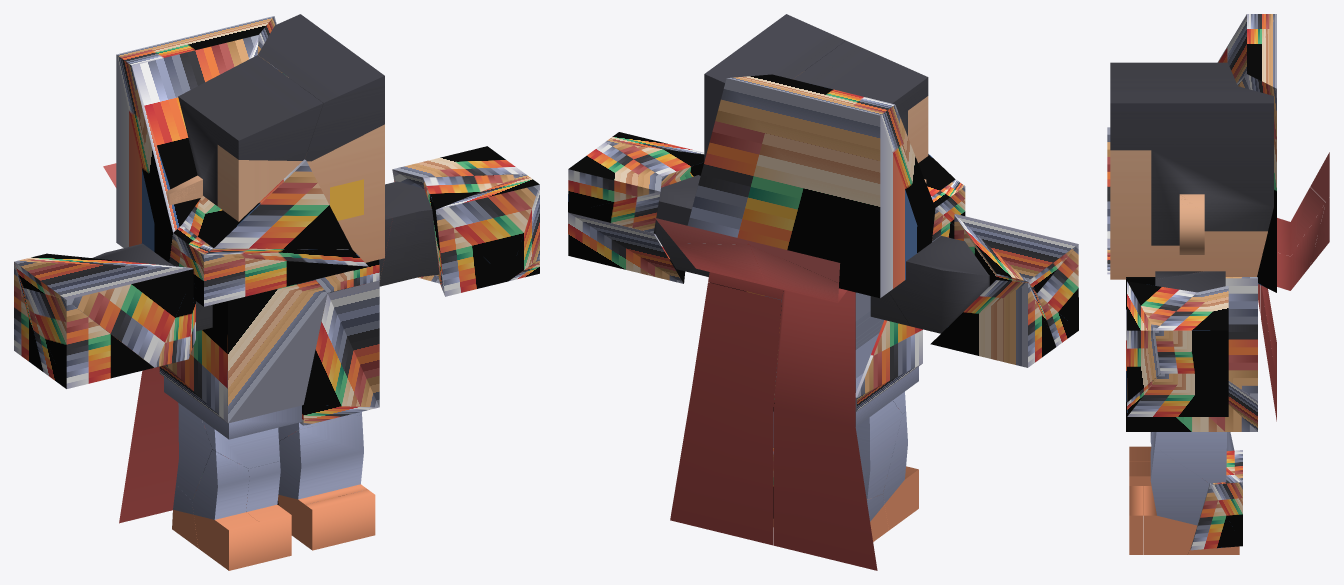
Rendered from smashed_vampire.glb.
3 renders of one model, left to right at view 1: azimuth 30°, elevation 25°; view 2: azimuth 150°, elevation 25°; view 3: azimuth 270°, elevation 25°, orthographic. The views are drawn at different scales.
Parts seen in each view (by area): view 1: head_cell.004, head_cell.002, torso_cell.004, head_cell, head_cell.003, arm_right_cell.001, arm_left_cell.003, torso_cell.003, head_cell.001, leg_left_cell, arm_right_cell.002, cape_cell (+12 smaller); view 2: head_cell.004, cape_cell, cape_cell.005, arm_right_cell, head_cell.002, arm_right_cell.004, arm_left_cell.001, head_cell.003, arm_right_cell.001, arm_left_cell, torso_cell.004, leg_right_cell.004 (+14 smaller); view 3: head_cell.003, head_cell, leg_left_cell, arm_left_cell.001, head_cell.004, arm_left_cell.003, arm_left_cell, torso_cell.001, leg_left_cell.001, head_cell.002, torso_cell.003, leg_left_cell.003 (+10 smaller).
Part boxes in pixels (x1=…): head_cell.004: x1=116, y1=16, x2=288, y2=262; head_cell.002: x1=169, y1=55, x2=323, y2=221; torso_cell.004: x1=159, y1=279, x2=327, y2=423; head_cell: x1=166, y1=124, x2=384, y2=251; head_cell.003: x1=258, y1=14, x2=384, y2=262; arm_right_cell.001: x1=14, y1=253, x2=195, y2=367; arm_left_cell.003: x1=423, y1=174, x2=539, y2=296; torso_cell.003: x1=299, y1=280, x2=379, y2=425; head_cell.001: x1=169, y1=225, x2=368, y2=306; leg_left_cell: x1=278, y1=414, x2=367, y2=544; arm_right_cell.002: x1=24, y1=288, x2=153, y2=388; cape_cell: x1=119, y1=366, x2=178, y2=523; head_cell.004: x1=687, y1=74, x2=935, y2=298; cape_cell: x1=749, y1=245, x2=877, y2=570; cape_cell.005: x1=670, y1=282, x2=781, y2=545; arm_right_cell: x1=930, y1=280, x2=1055, y2=367; head_cell.002: x1=793, y1=40, x2=928, y2=162; arm_right_cell.004: x1=889, y1=236, x2=989, y2=333; arm_left_cell.001: x1=568, y1=142, x2=661, y2=233; head_cell.003: x1=704, y1=14, x2=845, y2=161; arm_right_cell.001: x1=954, y1=214, x2=1078, y2=292; arm_left_cell: x1=568, y1=212, x2=685, y2=283; torso_cell.004: x1=855, y1=320, x2=922, y2=411; leg_right_cell.004: x1=855, y1=400, x2=902, y2=499; head_cell.003: x1=1110, y1=86, x2=1273, y2=273; head_cell: x1=1107, y1=127, x2=1267, y2=279; leg_left_cell: x1=1143, y1=432, x2=1209, y2=554; arm_left_cell.001: x1=1155, y1=285, x2=1228, y2=373; head_cell.004: x1=1217, y1=14, x2=1276, y2=292; arm_left_cell.003: x1=1127, y1=281, x2=1196, y2=402; arm_left_cell: x1=1127, y1=373, x2=1228, y2=416; torso_cell.001: x1=1126, y1=277, x2=1257, y2=400; leg_left_cell.001: x1=1190, y1=450, x2=1242, y2=550; head_cell.002: x1=1110, y1=62, x2=1237, y2=85; torso_cell.003: x1=1126, y1=309, x2=1257, y2=431; leg_left_cell.003: x1=1154, y1=432, x2=1226, y2=483.
Bounding box in the file's own units: 8.47 × 8.03 × 3.56.
Materials: 1 (1 with a texture image).
